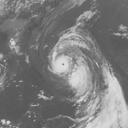cyclone: (48, 23, 126, 125)
